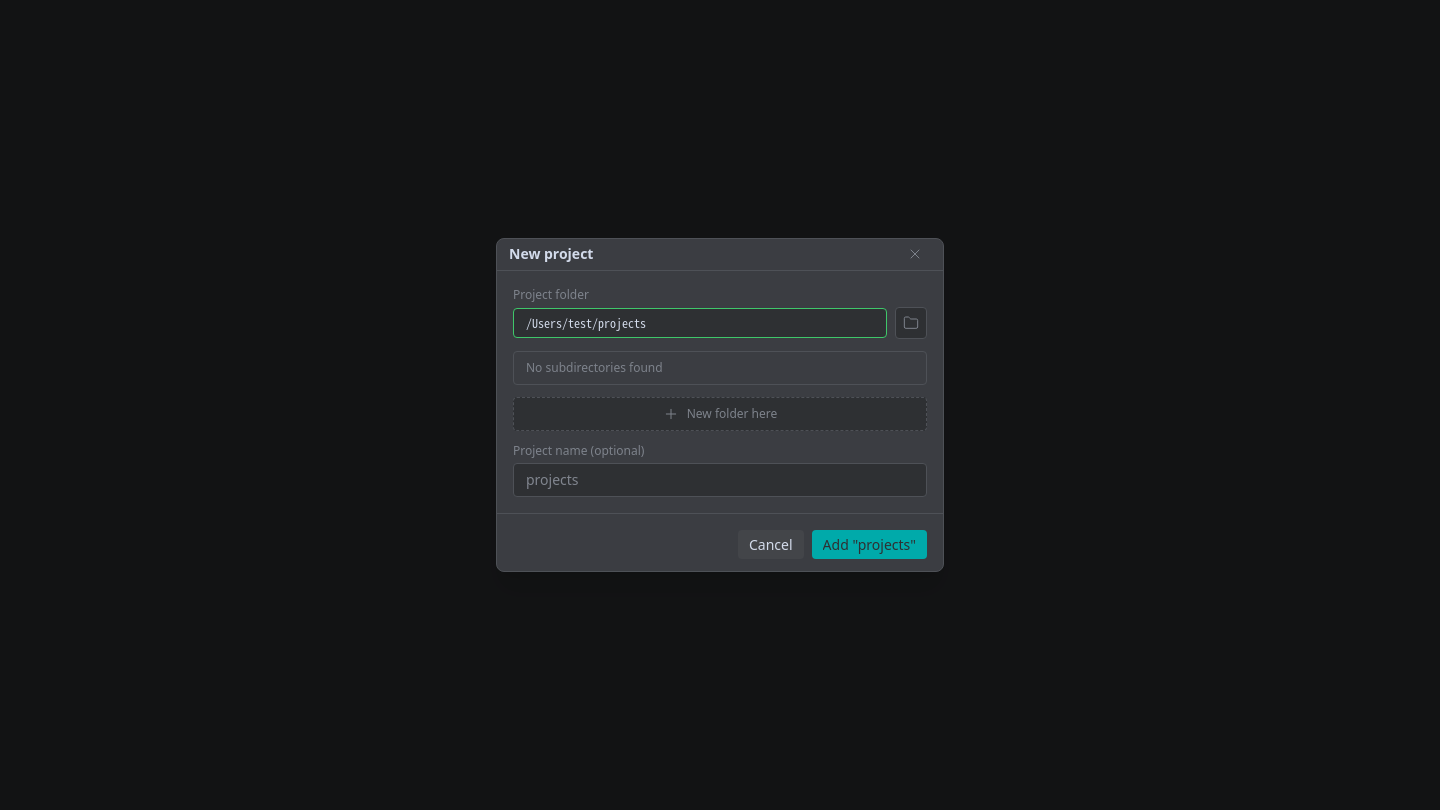
NewProjectDialog -- create new folder › cancel closes the inline form without creating
Step 1. Click the button "New folder here" → click(720, 414), box [513,397,927,431]
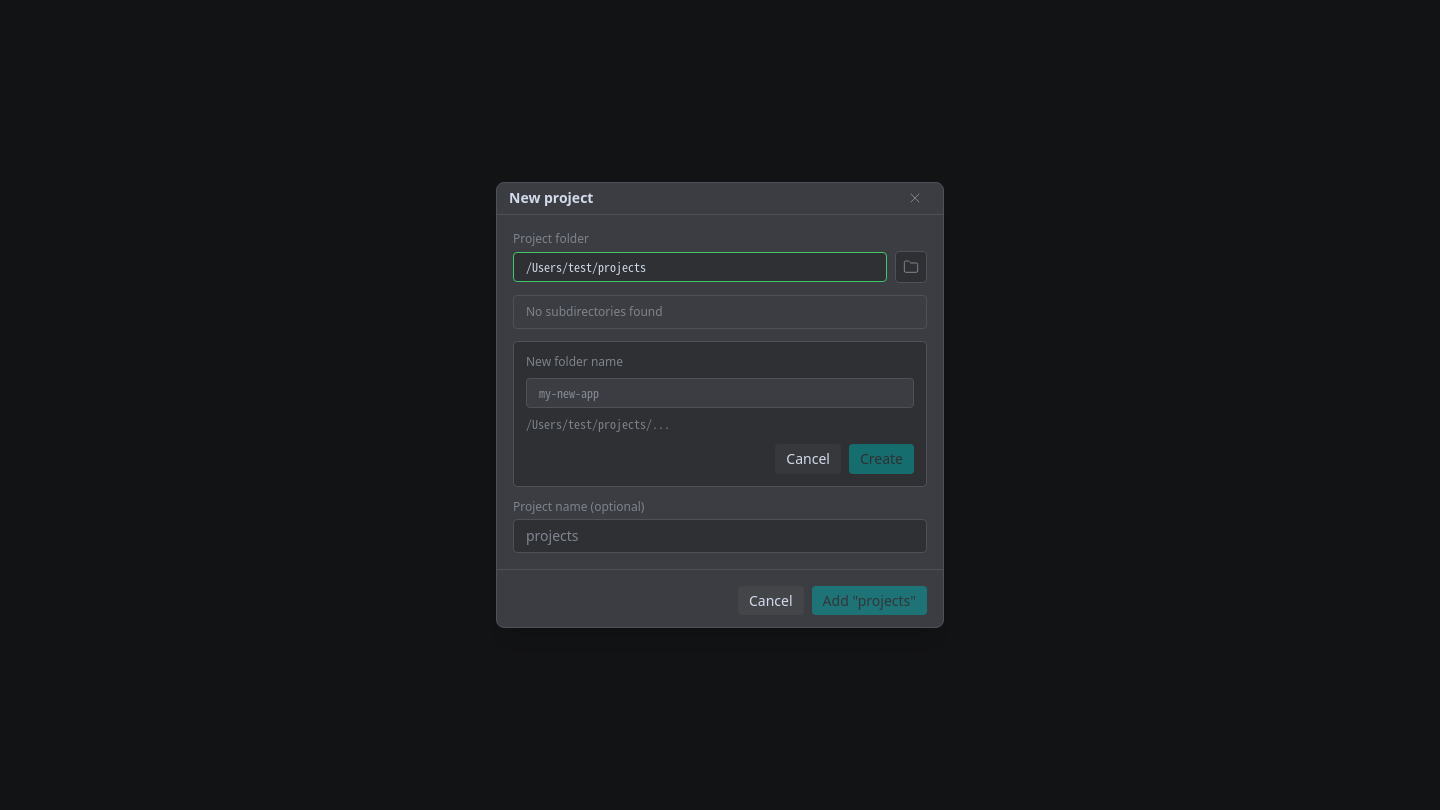
Step 2. Type "x" into the field with placeholder "my-new-app" → (720, 393), box [526,378,914,408]
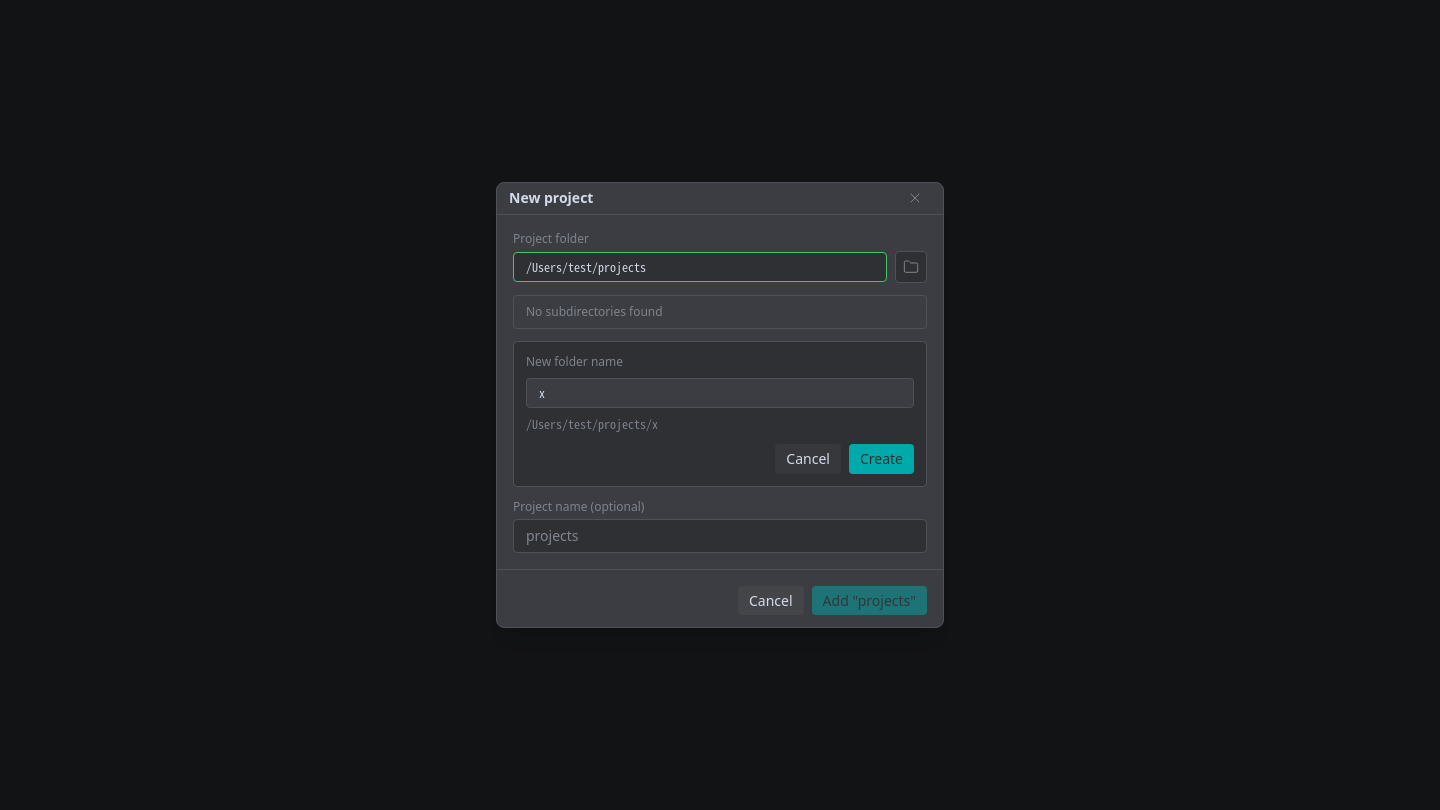
Step 3. Click the button "Cancel" below "New folder name" → click(808, 459), box [775,444,841,474]
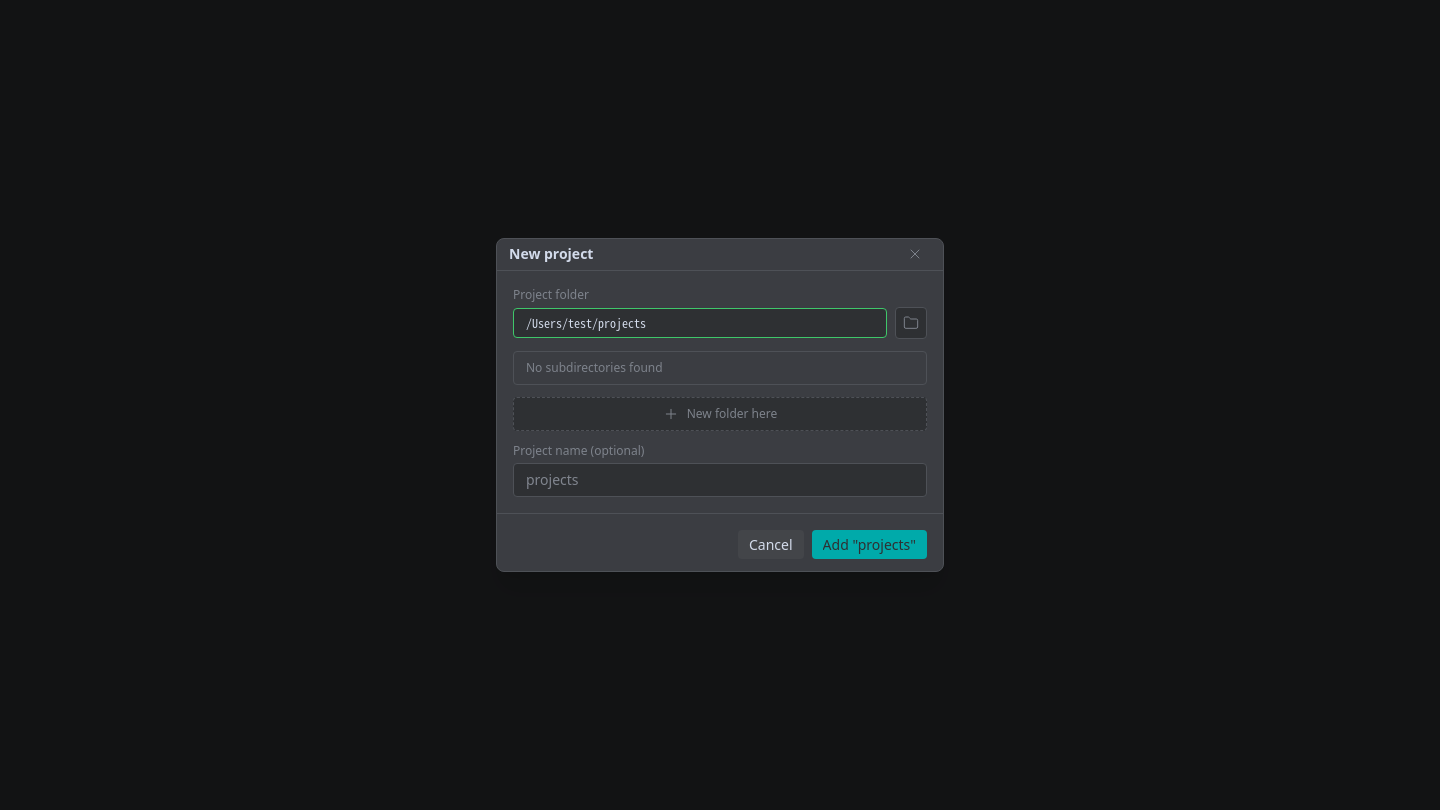
Check: the button "New folder here" is shown, box [513,397,927,431]
Check: the text "New folder here" is shown, box [687,406,777,422]
